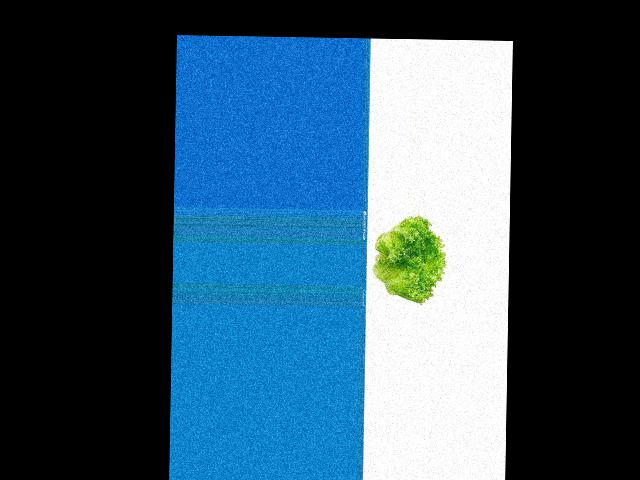lettuce: (379, 212, 453, 331)
